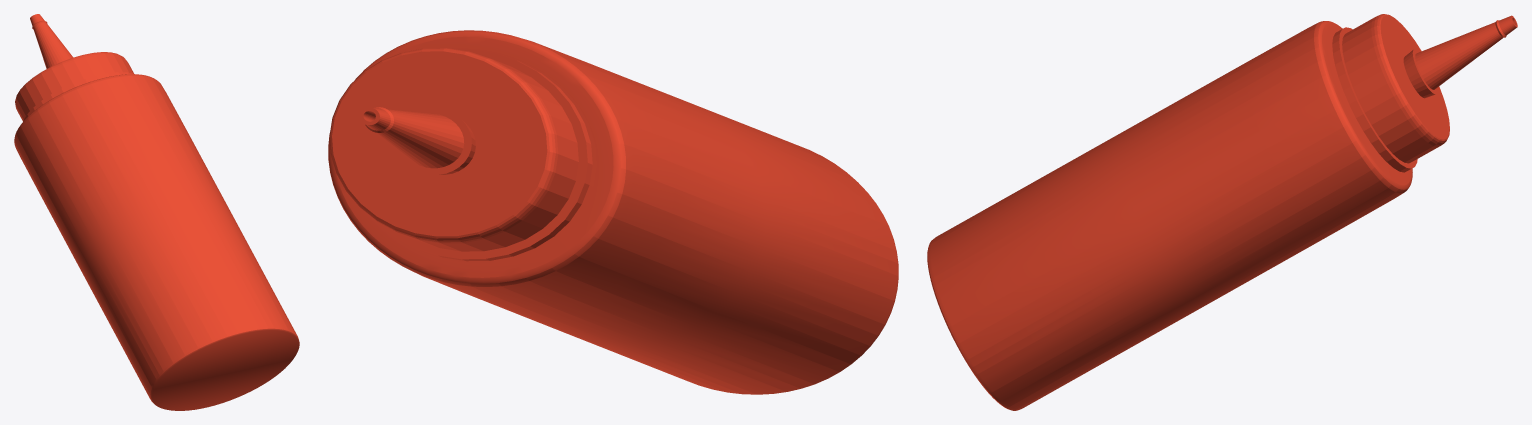
The model's file is Sos 1.fbx.
The picture shows the model from 3 angles, left to right: view 1: azimuth 30°, elevation 25°; view 2: azimuth 150°, elevation 25°; view 3: azimuth 270°, elevation 25°; orthographic projection. The views are drawn at different scales.
Parts seen in each view (by area): view 1: Cube.097; view 2: Cube.097; view 3: Cube.097.
Boxes of the visible parts, x1,y1,x2,y2 form: Cube.097: (14,14,299,410); Cube.097: (328,30,898,394); Cube.097: (927,14,1517,410).
Bounding box in the file's own units: 13.43 × 23.38 × 33.09.
